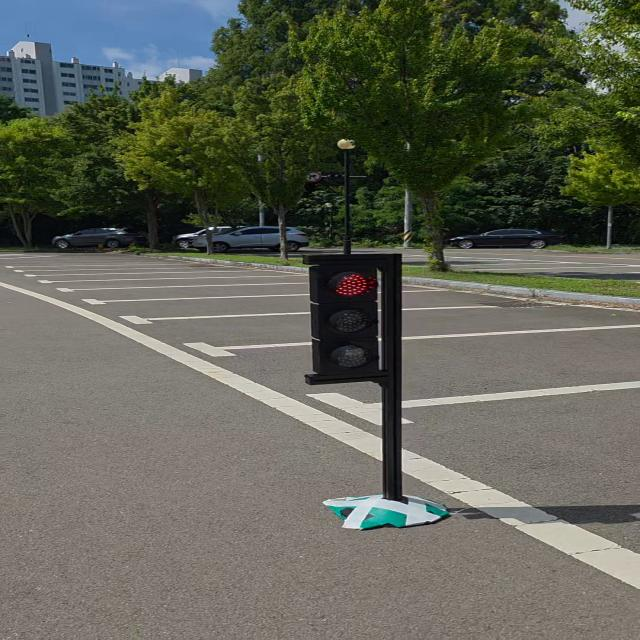red: (298, 255, 396, 390)
